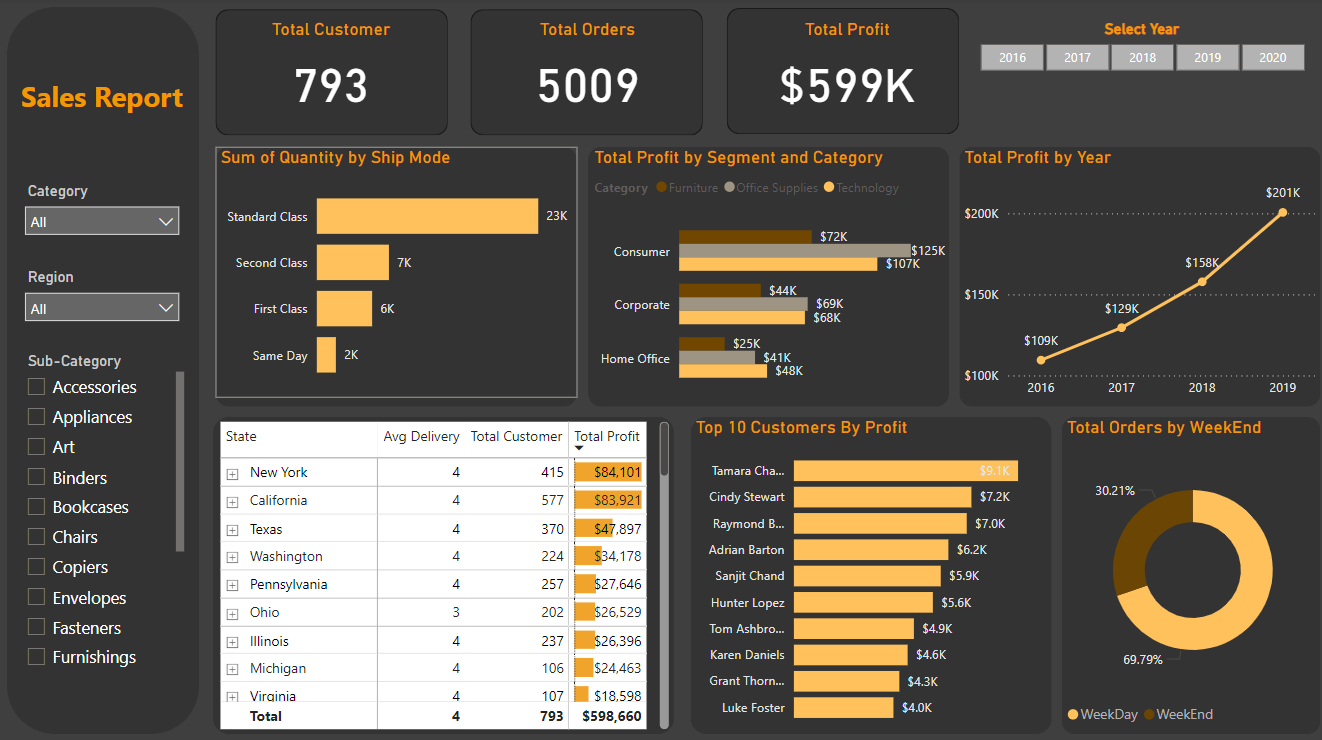

The page's visual inventory and layout, read from the dashboard file:
{"tool":"powerbi","page":{"name":"Dashboard","canvas":[1280,720],"ordinal":0},"visuals":[{"type":"shape","box":[8.4,8.4,185.8,702.1],"z":0},{"type":"textbox","box":[15.7,71.2,168.9,48.3],"z":1000},{"type":"slicer","title":"Select Year","fields":{"Values":["Orders.Year"]},"box":[927.8,10.9,352.3,66.4],"z":2000},{"type":"shape","box":[703.4,9.7,224.4,121.9],"z":3000},{"type":"shape","box":[456,10.9,224.4,121.9],"z":4000},{"type":"shape","box":[209.9,10.9,224.4,121.9],"z":5000},{"type":"card","title":"Total Customer","fields":{"Values":["Measures List.Total Customer"]},"box":[213.5,19.3,216,100.1],"z":6000},{"type":"card","title":"Total Orders","fields":{"Values":["Measures List.Total Orders"]},"box":[460.9,19.3,216,100.1],"z":7000},{"type":"card","title":"Total Profit","fields":{"Values":["Measures List.Total Profit"]},"box":[711.8,19.3,216,100.1],"z":8000},{"type":"shape","box":[209.9,143.6,348.7,250.9],"z":9000},{"type":"clusteredBarChart","fields":{"Category":["Orders.Ship Mode"],"Y":["Sum(Orders.Quantity)"]},"box":[209.9,143.6,348.7,242.5],"z":10000},{"type":"shape","box":[569.4,143.6,348.7,250.9],"z":11000},{"type":"clusteredBarChart","fields":{"Category":["Orders.Segment"],"Y":["Measures List.Total Profit"],"Series":["Orders.Category"]},"box":[570.6,143.6,348.7,250.9],"z":12000},{"type":"shape","box":[927.8,143.6,348.7,250.9],"z":13000},{"type":"lineChart","fields":{"Category":["Orders.Ship Date.Variation.Date Hierarchy.Year","Orders.Ship Date.Variation.Date Hierarchy.Quarter","Orders.Ship Date.Variation.Date Hierarchy.Month","Orders.Ship Date.Variation.Date Hierarchy.Day"],"Y":["Measures List.Total Profit"]},"box":[927.8,143.6,348.7,250.9],"z":14000},{"type":"shape","box":[207.5,404.2,445.2,306.4],"z":14001},{"type":"pivotTable","fields":{"Rows":["Orders.State","Orders.City"],"Values":["Measures List.Avg Delivery","Measures List.Total Customer","Measures List.Total Profit"]},"box":[209.9,404.2,442.8,306.4],"z":14002},{"type":"shape","box":[668.4,404.2,348.7,306.4],"z":14003},{"type":"barChart","title":"Top 10 Customers By Profit","fields":{"Y":["Measures List.Total Profit"],"Category":["Orders.Customer Name"]},"box":[668.4,404.2,348.7,306.4],"z":14004},{"type":"shape","box":[1026.7,404.2,249.7,306.4],"z":14005},{"type":"donutChart","fields":{"Category":["Orders.WeekEnd"],"Y":["Measures List.Total Orders"]},"box":[1026.7,404.2,253.4,306.4],"z":14006},{"type":"slicer","fields":{"Values":["Orders.Category"]},"box":[15.7,172.5,168.9,67.6],"z":14007},{"type":"slicer","fields":{"Values":["Orders.Region"]},"box":[15.7,255.8,168.9,67.6],"z":14008},{"type":"slicer","fields":{"Values":["Orders.Sub-Category"]},"box":[15.7,336.6,168.9,322.1],"z":14009}]}

Visuals, with their boxes in screenshot pixels (x1, y1, x2, y2), scaled from the page's 1280x720 canvas onto the 1322x740 screenshot:
shape: l=9, t=9, r=201, b=730
textbox: l=16, t=73, r=191, b=123
"Select Year" slicer: l=958, t=11, r=1321, b=79
shape: l=726, t=10, r=958, b=135
shape: l=471, t=11, r=703, b=136
shape: l=217, t=11, r=449, b=136
"Total Customer" card: l=221, t=20, r=444, b=123
"Total Orders" card: l=476, t=20, r=699, b=123
"Total Profit" card: l=735, t=20, r=958, b=123
shape: l=217, t=148, r=577, b=405
clusteredBarChart - Orders.Ship Mode x Sum(Orders.Quantity): l=217, t=148, r=577, b=397
shape: l=588, t=148, r=948, b=405
clusteredBarChart - Orders.Segment x Measures List.Total Profit: l=589, t=148, r=949, b=405
shape: l=958, t=148, r=1318, b=405
lineChart - Orders.Ship Date.Variation.Date Hierarchy.Year x Orders.Ship Date.Variation.Date Hierarchy.Quarter: l=958, t=148, r=1318, b=405
shape: l=214, t=415, r=674, b=730
pivotTable - Orders.State x Orders.City: l=217, t=415, r=674, b=730
shape: l=690, t=415, r=1050, b=730
"Top 10 Customers By Profit" barChart: l=690, t=415, r=1050, b=730
shape: l=1060, t=415, r=1318, b=730
donutChart - Orders.WeekEnd x Measures List.Total Orders: l=1060, t=415, r=1321, b=730
slicer - Orders.Category: l=16, t=177, r=191, b=247
slicer - Orders.Region: l=16, t=263, r=191, b=332
slicer - Orders.Sub-Category: l=16, t=346, r=191, b=677
